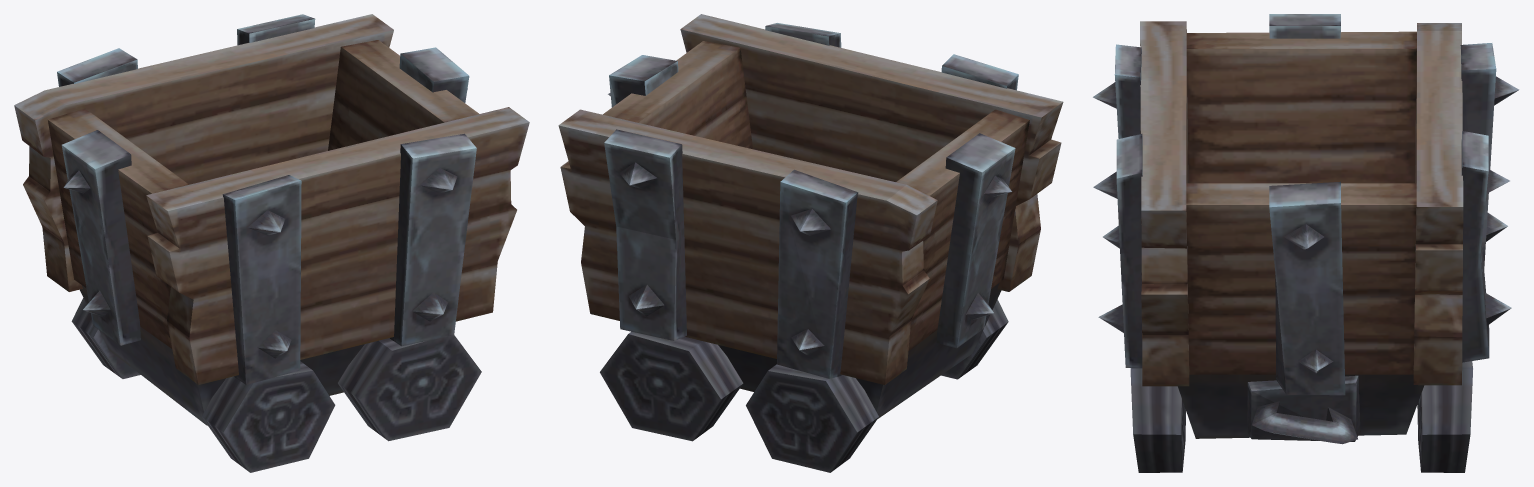
Rendered from mine_cart01.fbx.
3 renders of one model, left to right at view 1: azimuth 30°, elevation 25°; view 2: azimuth 150°, elevation 25°; view 3: azimuth 270°, elevation 25°, orthographic. The views are drawn at different scales.
Parts seen in each view (by area): view 1: mine_cart01; view 2: mine_cart01; view 3: mine_cart01.
Boxes of the visible parts, x1=… form: mine_cart01: x1=14, y1=14, x2=529, y2=472; mine_cart01: x1=558, y1=14, x2=1063, y2=472; mine_cart01: x1=1093, y1=14, x2=1519, y2=472.
Bounding box in the file's own units: 2 × 1.4 × 1.7.
